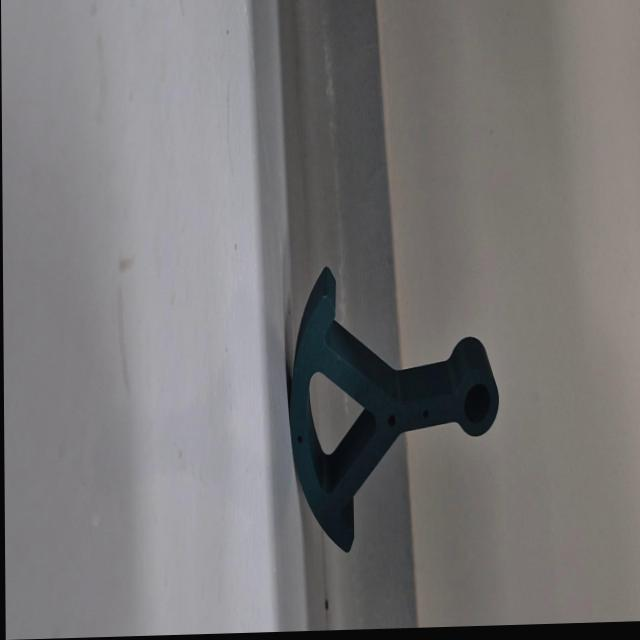haptic: (285, 259, 501, 557)
